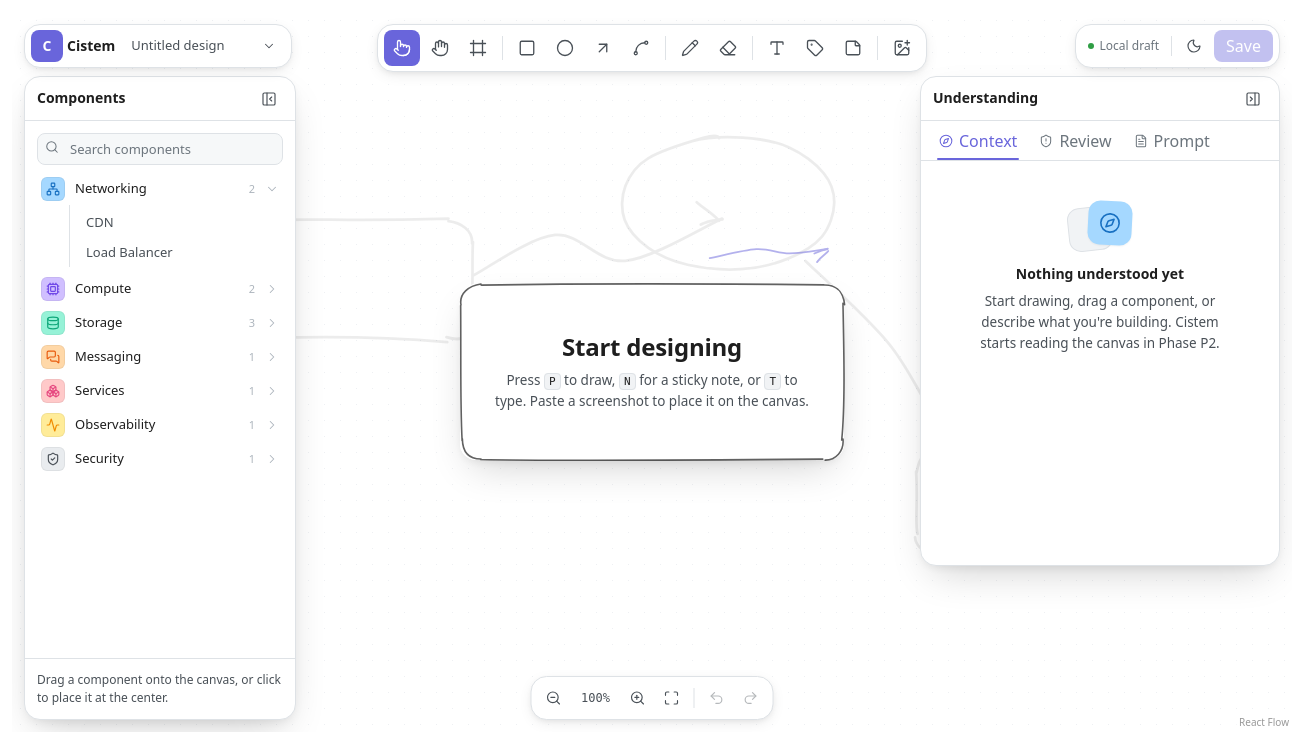
Scenario: WorkspaceLayout › renders the component palette and collapses categories
Expected: the text "Load Balancer" is shown, x1=86 y1=243 x2=173 y2=261
Click the button "Networking 2" at x=160, y=189, box x1=33 y1=173 x2=287 y2=205
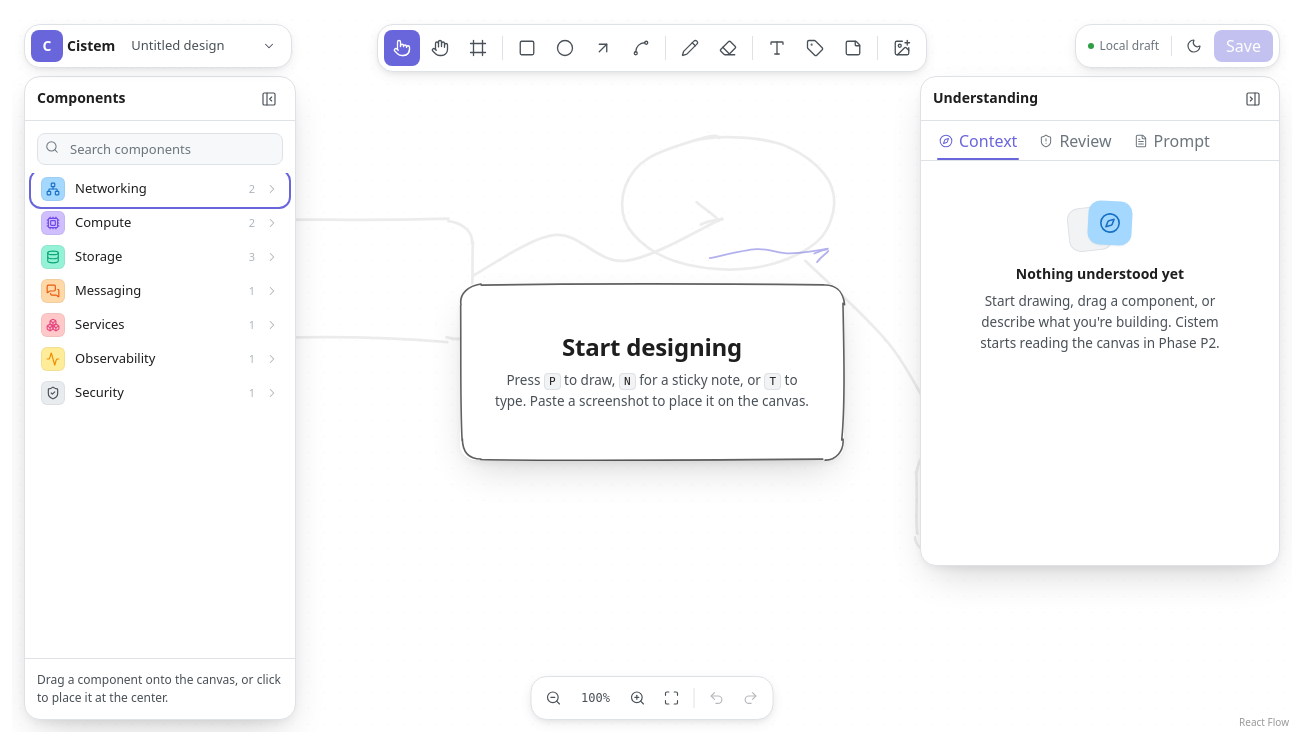
Now the button "Load Balancer" is gone
